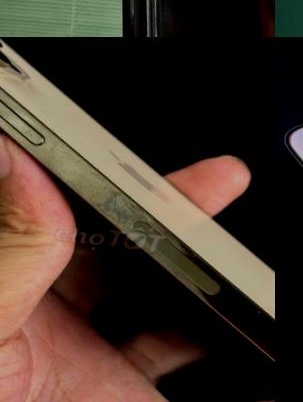scratch: (77, 179, 183, 253), (280, 0, 303, 10), (252, 301, 264, 320)
